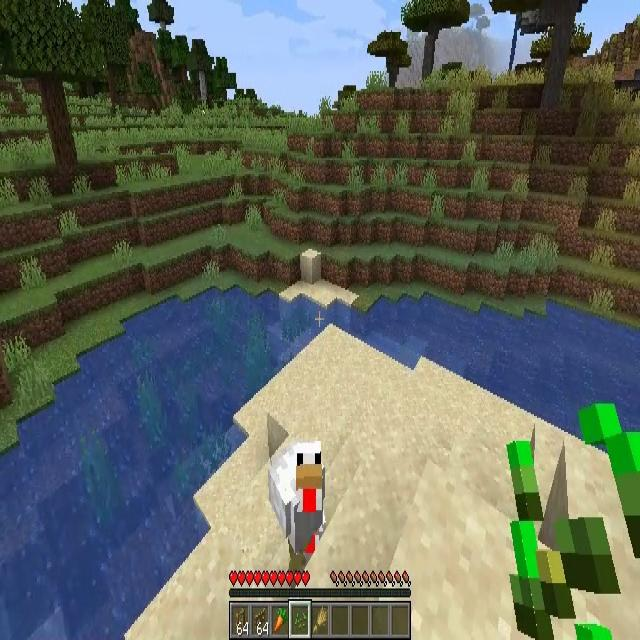duck: (270, 441, 326, 548)
